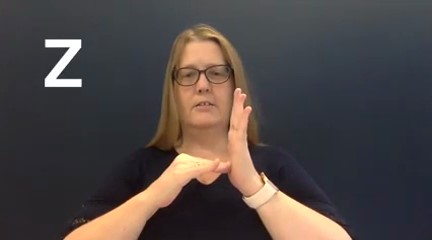Z: (152, 87, 258, 215)
